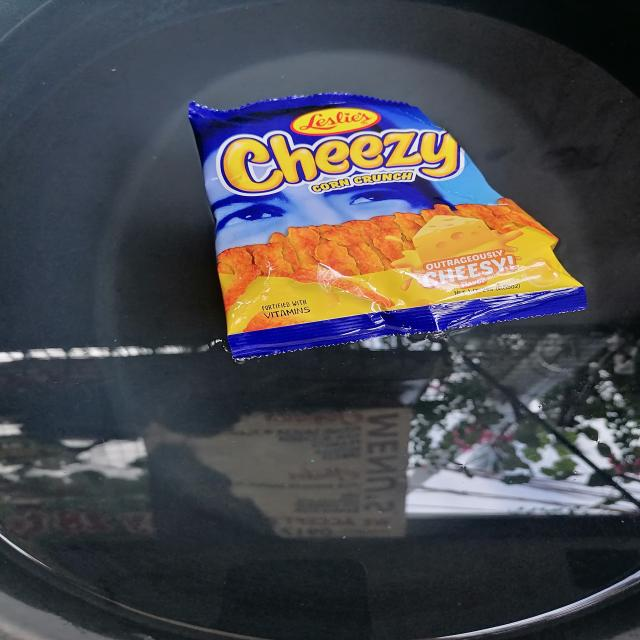Plastic Wrapper: (189, 93, 587, 358)
